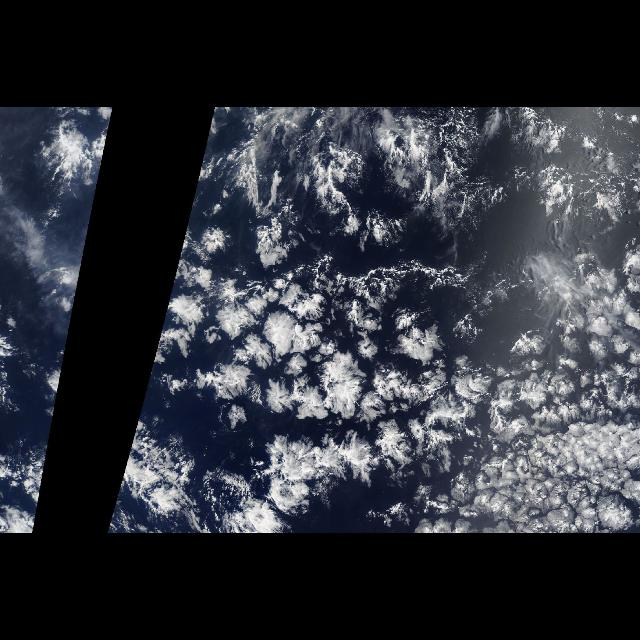Flower: (136, 218, 640, 532)
